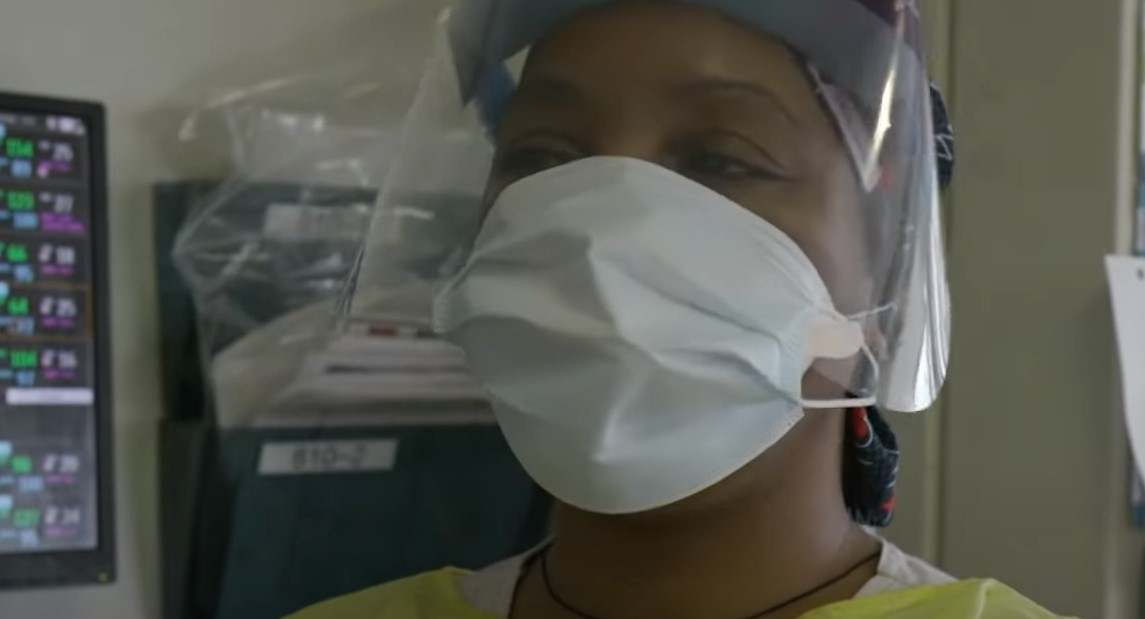face_with_mask: (422, 4, 957, 519)
